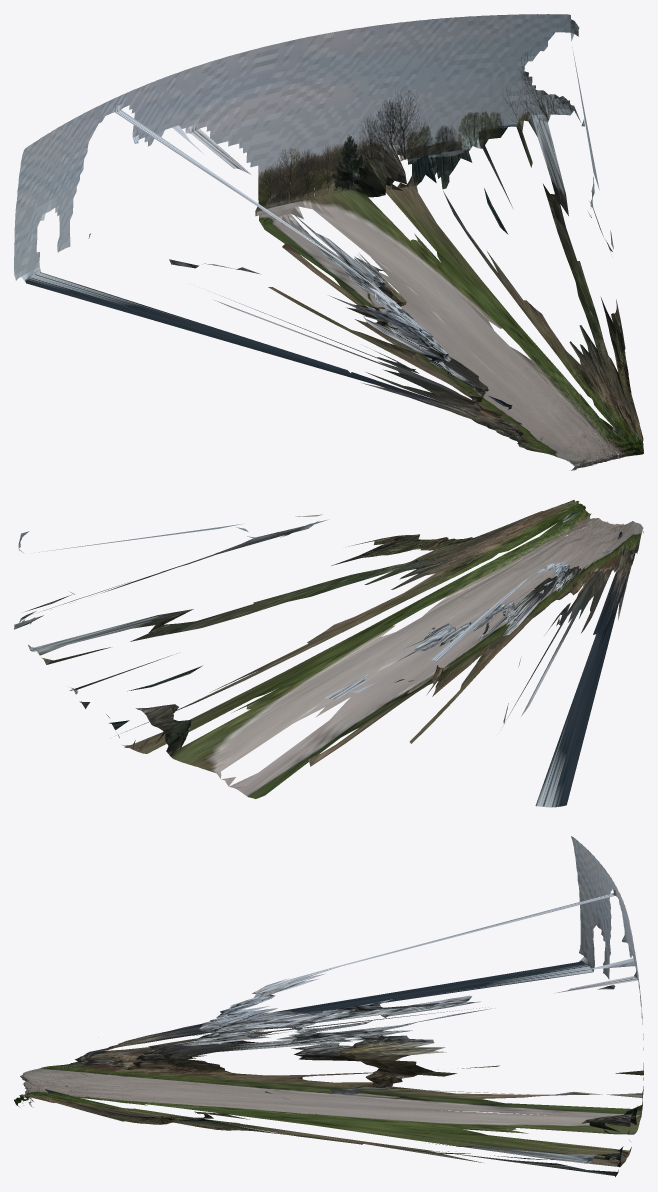
3 renders of one model, top to bottom at view 1: azimuth 30°, elevation 25°; view 2: azimuth 150°, elevation 25°; view 3: azimuth 270°, elevation 25°, orthographic. The views are drawn at different scales.
Visible parts, largest first — view 1: defaultobject; view 2: defaultobject; view 3: defaultobject.
Part boxes in pixels (x1,y1,x2,y2): defaultobject: [14, 14, 643, 470]; defaultobject: [14, 500, 643, 807]; defaultobject: [14, 836, 643, 1176].
Bounding box in the file's own units: 40.81 × 12.86 × 44.73.
Materials: 1 (1 with a texture image).
